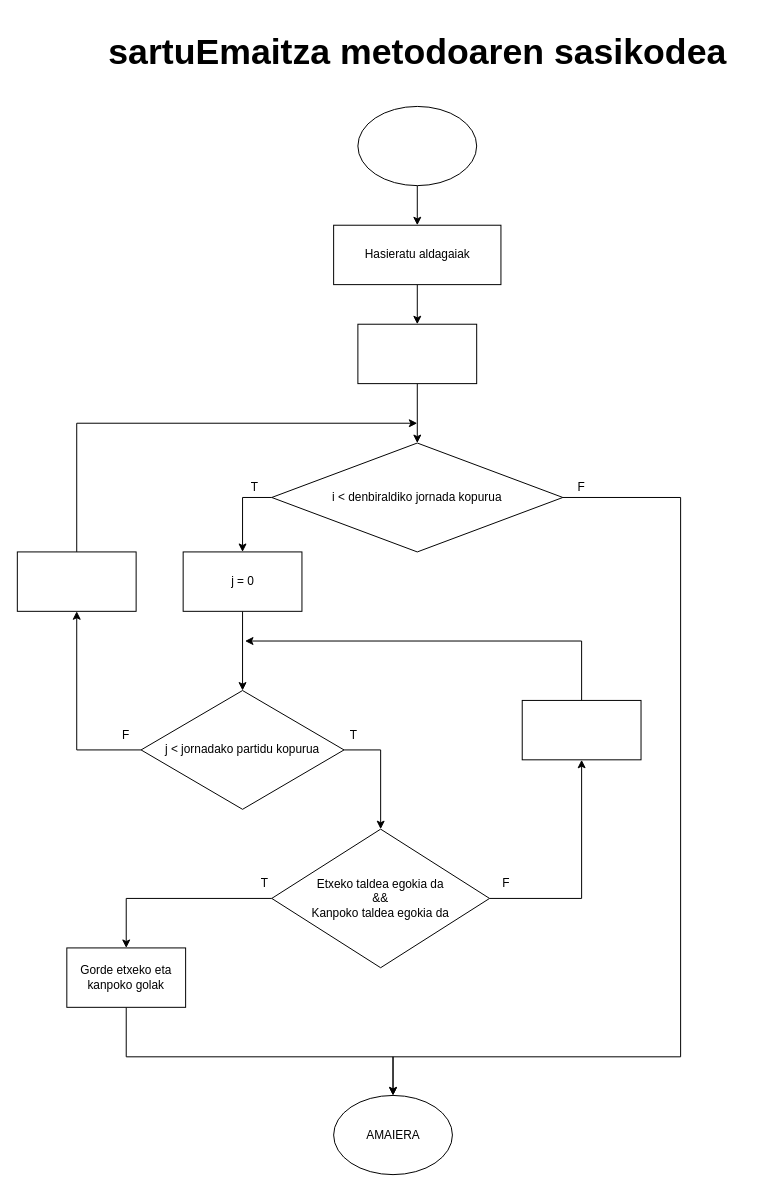
The diagram is 782 pixels wide and 1192 high, and some of its shapes have lost their labels. Here are the shapes that lost their labels. From the top down, the centre of each, then its label:
At [417,145]: "HASIERA".
At [417,353]: "i = 0".
At [76,581]: "i++".
At [581,729]: "j++".
